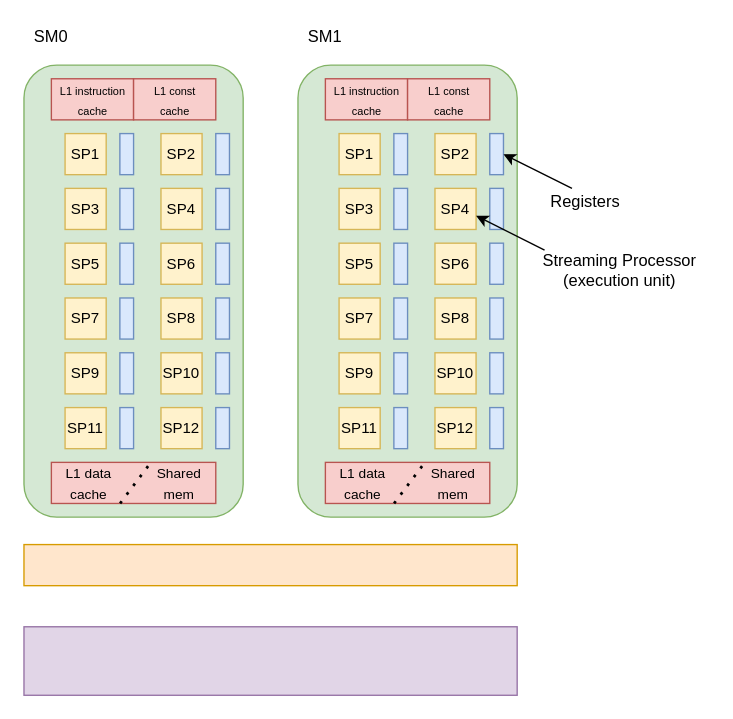
The diagram is 733 pixels wide and 719 high, and some of its shapes have lost their labels. Here are the shapes that lost their labels. From the top down, the centre of each, then its label:
At pixel 270 564: "L2 data/constant/instruction cache".
At pixel 270 660: "Global memory (HBM or DDR)".
